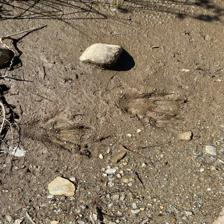beaver: (17, 108, 91, 159), (115, 86, 187, 133)
